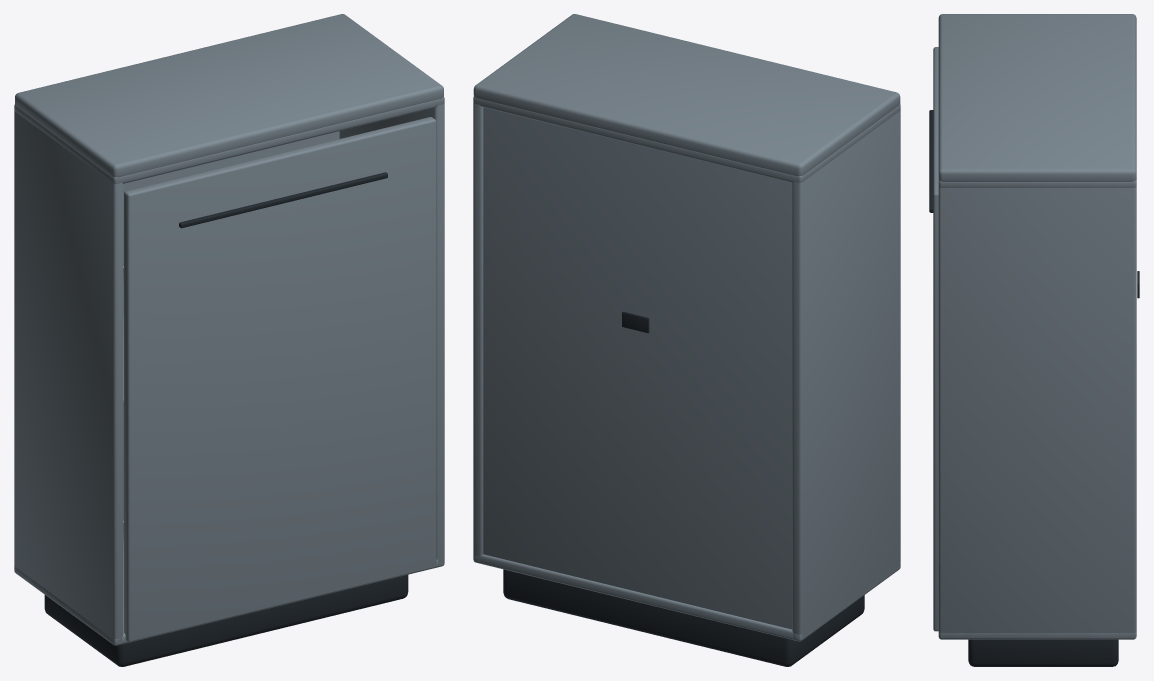
The model's file is cabinet.glb.
3 renders of one model, left to right at view 1: azimuth 30°, elevation 25°; view 2: azimuth 150°, elevation 25°; view 3: azimuth 270°, elevation 25°, orthographic. The views are drawn at different scales.
Visible parts, largest first — view 1: catalog_surface_RealismUV, catalog_surface_UVMap; view 2: catalog_surface_RealismUV, catalog_surface_UVMap; view 3: catalog_surface_RealismUV, catalog_surface_UVMap.
Part boxes in pixels (bbox=[...]): catalog_surface_RealismUV: bbox=[14, 14, 444, 645]; catalog_surface_UVMap: bbox=[44, 172, 408, 666]; catalog_surface_RealismUV: bbox=[473, 14, 900, 641]; catalog_surface_UVMap: bbox=[503, 311, 864, 666]; catalog_surface_RealismUV: bbox=[933, 14, 1136, 639]; catalog_surface_UVMap: bbox=[929, 110, 1139, 666].
Size of the model in its own units: 0.8 by 1.2 by 0.45.
